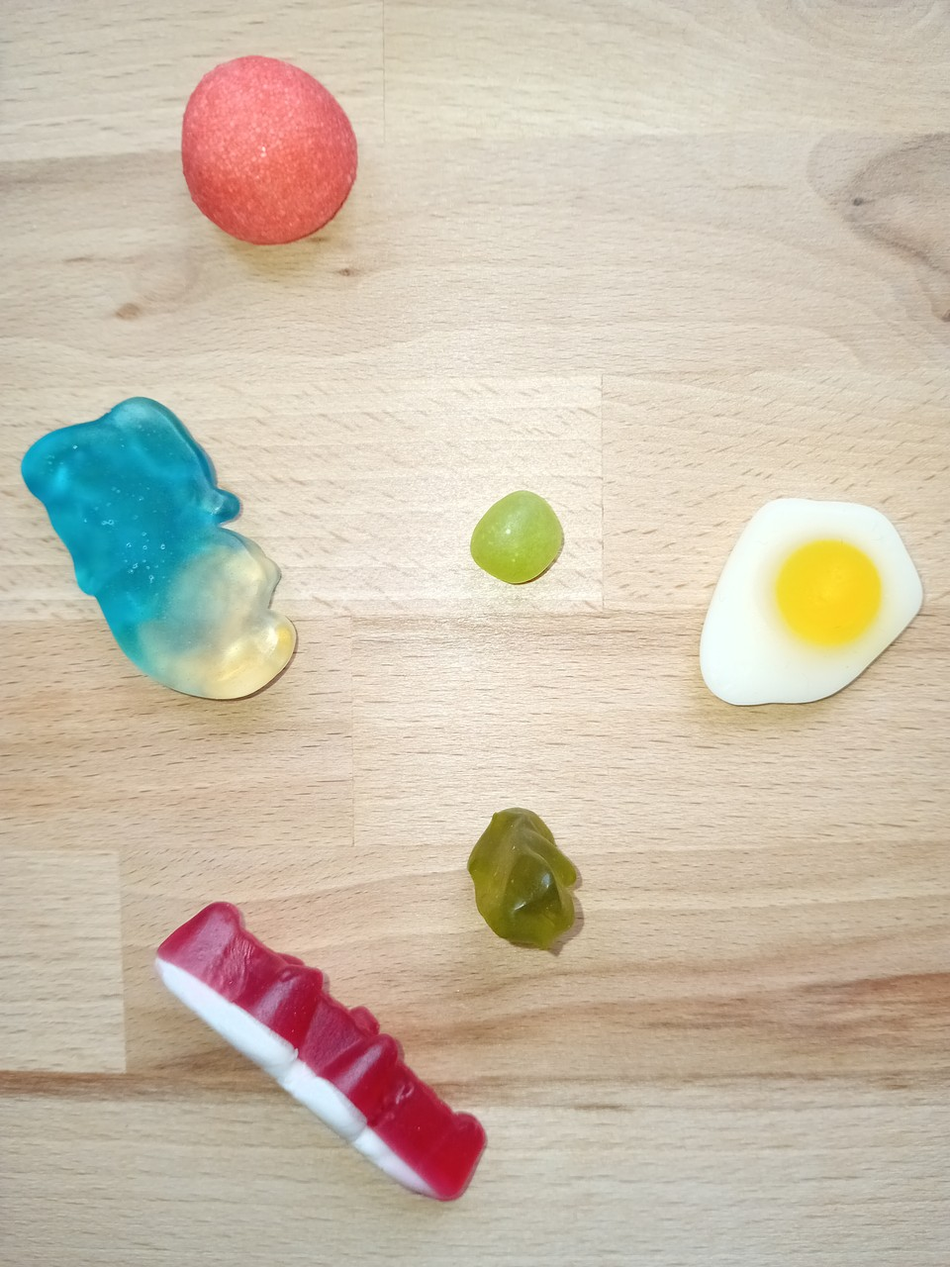crocodile_rouge: (142, 898, 491, 1208)
dragibus_vert: (459, 486, 569, 587)
oeuf_oeuf: (693, 488, 928, 714)
ourson_vert: (452, 795, 596, 956)
schtroumpf_bleu-blanc: (16, 391, 308, 713)
tagada_fraise: (169, 52, 367, 248)
